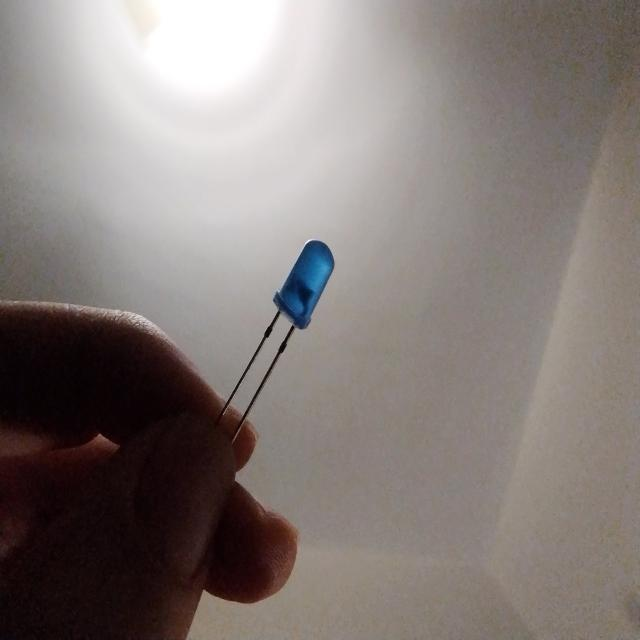blue_led: (217, 228, 336, 455)
